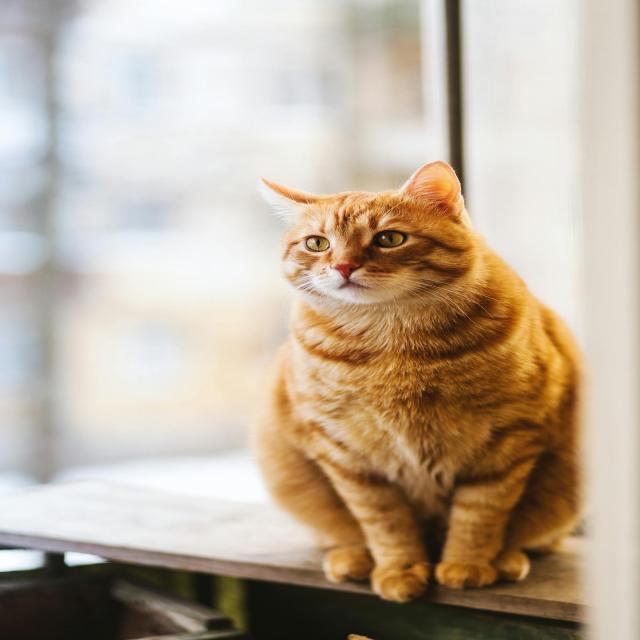Cat: (253, 160, 585, 604)
